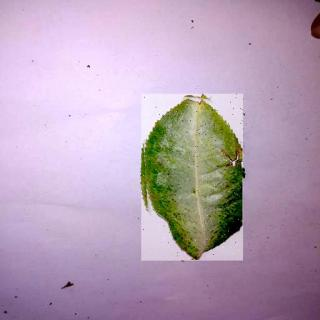Anthracnose: (143, 95, 245, 263)
